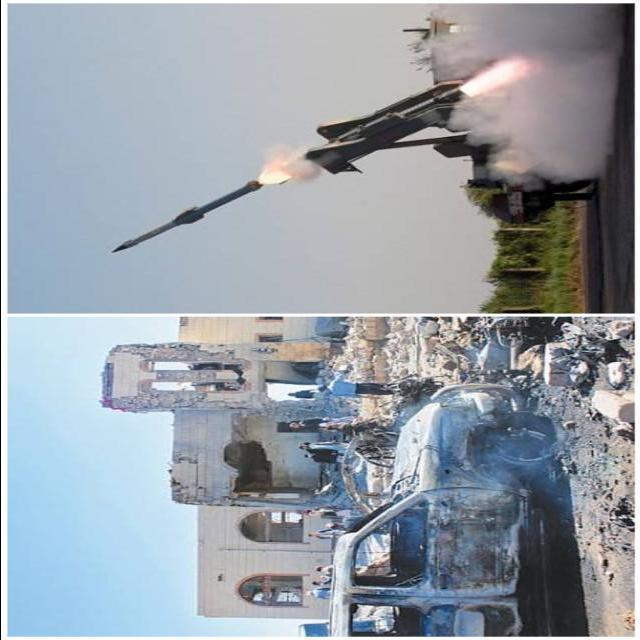missile: (103, 177, 265, 260)
